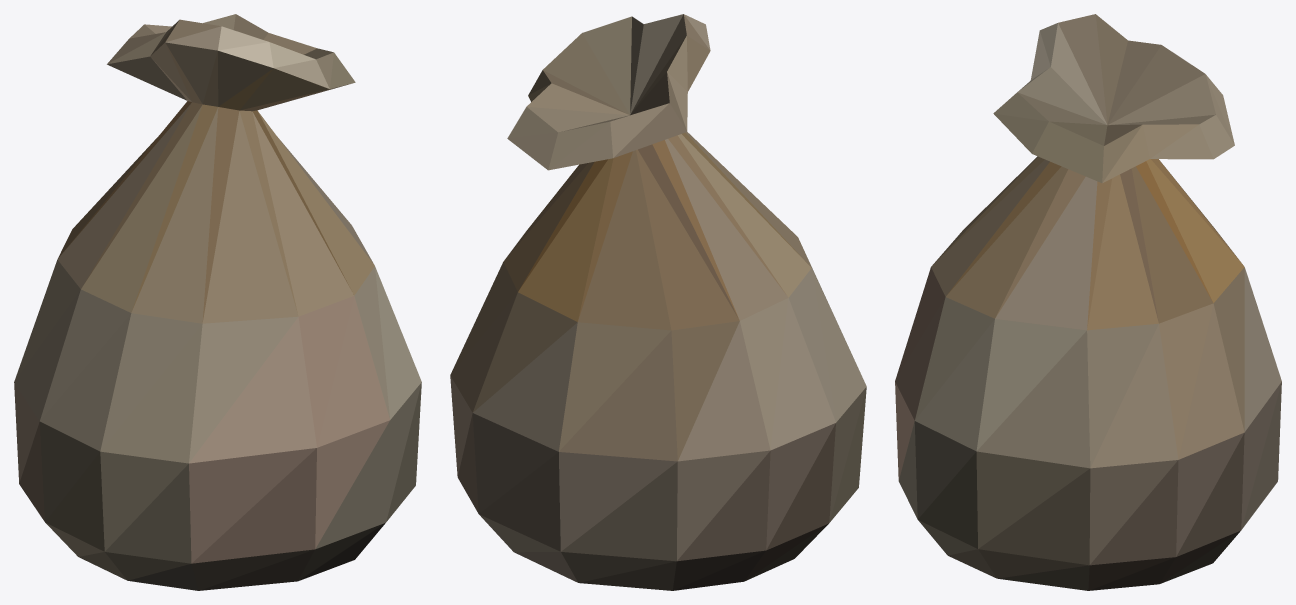
The model's file is prop_container_sack_3.fbx.
3 views of the same model, side by side, from view 1: azimuth 30°, elevation 25°; view 2: azimuth 150°, elevation 25°; view 3: azimuth 270°, elevation 25° (orthographic). The views are drawn at different scales.
Visible parts, largest first — view 1: prop_container_sack_3; view 2: prop_container_sack_3; view 3: prop_container_sack_3.
Part boxes in pixels (x1,y1,x2,y2): prop_container_sack_3: [14, 14, 421, 590]; prop_container_sack_3: [450, 14, 866, 590]; prop_container_sack_3: [895, 14, 1281, 590].
Bounding box in the file's own units: 1.04 × 1.4 × 0.9887.
